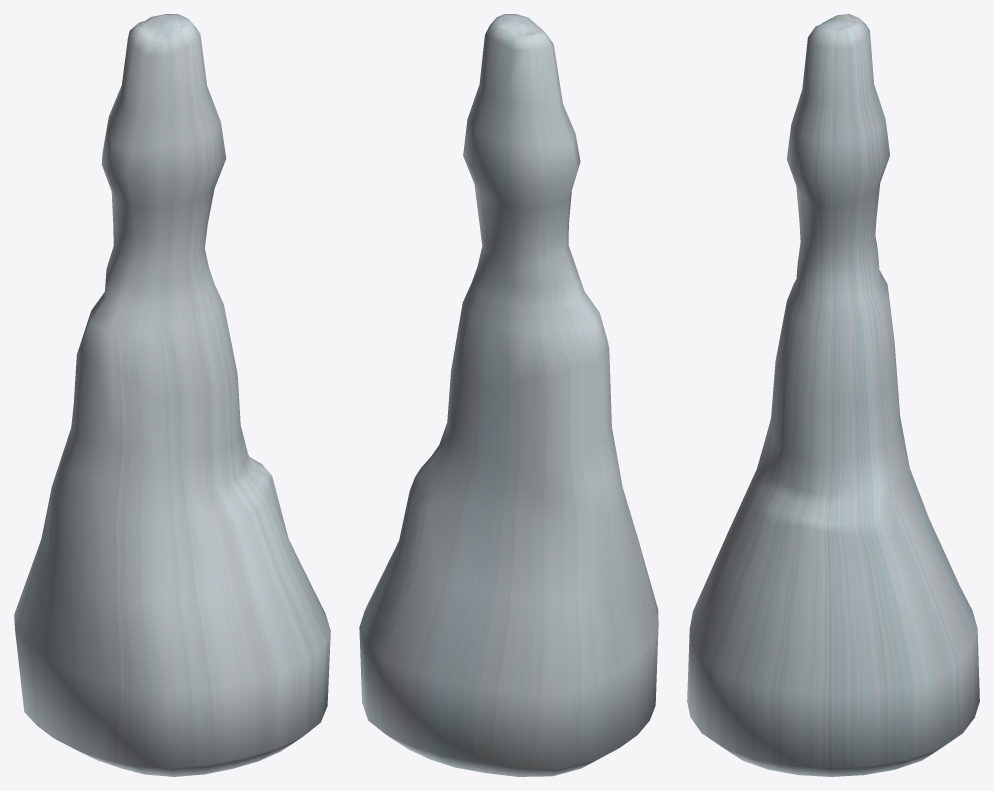
File: P_RockDesert_HoodooCliff05.obj
The picture shows the model from 3 angles, left to right: view 1: azimuth 30°, elevation 25°; view 2: azimuth 150°, elevation 25°; view 3: azimuth 270°, elevation 25°; orthographic projection.
Bounding box in the file's own units: 22.11 × 57.98 × 21.78.
